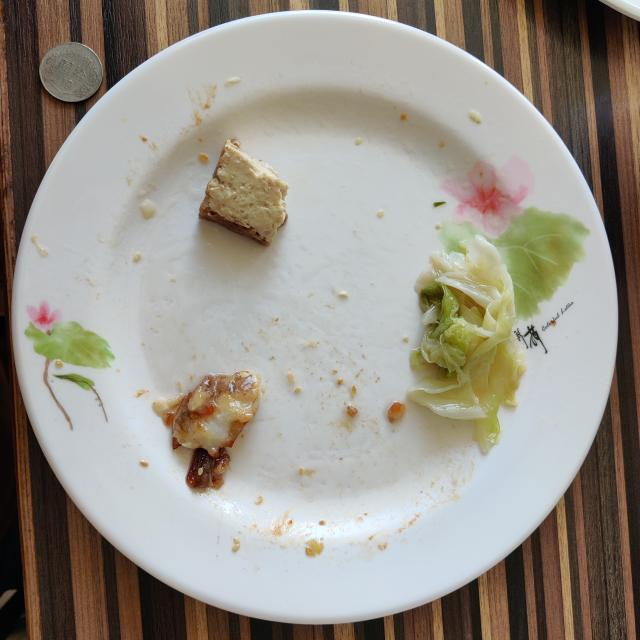Kabayaki sea bream fillet: (154, 371, 261, 489)
cabbage: (408, 236, 525, 451)
coin: (39, 42, 102, 102)
egg tofu: (199, 139, 289, 245)
